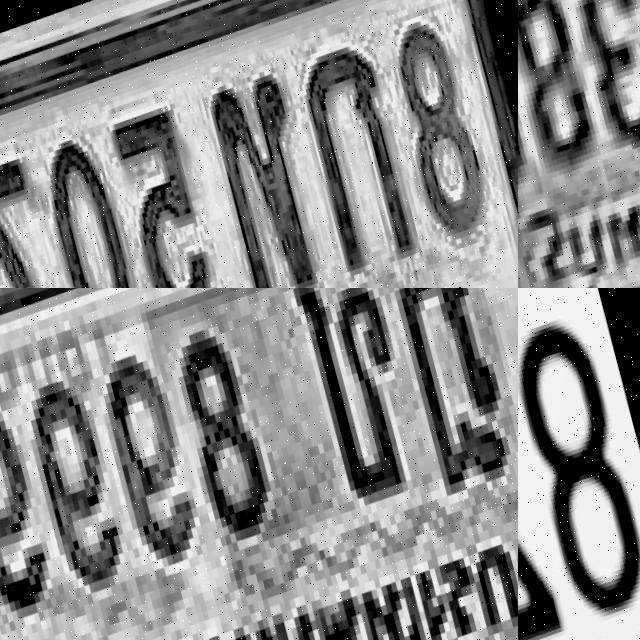license-plate: (0, 288, 518, 640), (0, 0, 518, 288), (518, 288, 640, 640), (518, 0, 640, 288)
